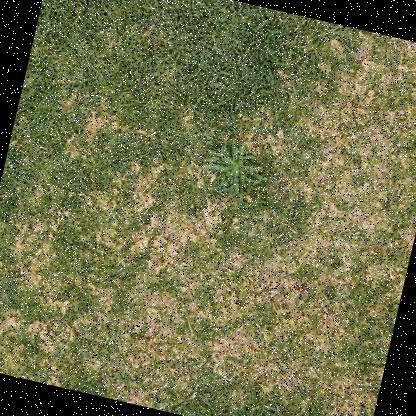Weeds: (195, 134, 274, 207)
